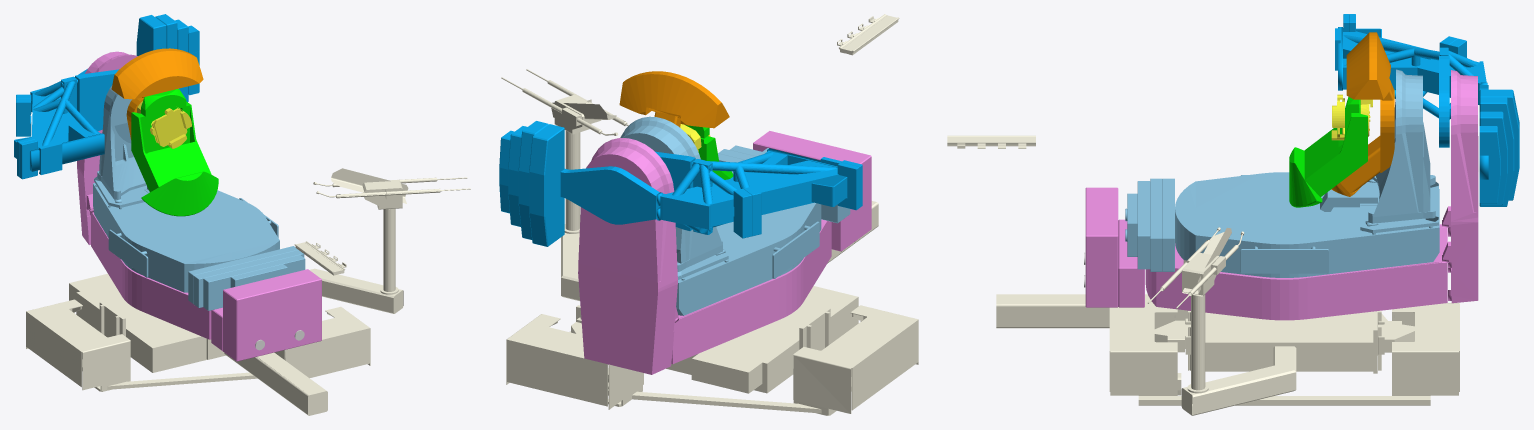
Rendered from diffabs.dae.
The picture shows the model from 3 angles, left to right: view 1: azimuth 30°, elevation 25°; view 2: azimuth 150°, elevation 25°; view 3: azimuth 270°, elevation 25°; orthographic projection. The views are drawn at different scales.
Parts seen in each view (by area): view 1: base, mu, gamma, delta, kappa, komega, kphi; view 2: base, gamma, delta, mu, komega, kappa; view 3: base, mu, gamma, delta, kappa, komega, kphi.
Part boxes in pixels (box(x1,y1,x2,y2)): base: box(26, 168, 470, 415); mu: box(93, 85, 305, 310); gamma: box(77, 51, 321, 361); delta: box(14, 14, 199, 179); kappa: box(131, 89, 218, 216); komega: box(111, 48, 203, 139); kphi: box(136, 101, 191, 148); base: box(501, 14, 918, 415); gamma: box(578, 131, 871, 374); delta: box(499, 121, 862, 246); mu: box(620, 116, 850, 315); komega: box(619, 71, 729, 128); kappa: box(685, 125, 733, 179); base: box(947, 135, 1459, 415); mu: box(1125, 69, 1439, 277); gamma: box(1085, 70, 1478, 320); delta: box(1335, 14, 1519, 206); kappa: box(1289, 96, 1367, 207); komega: box(1331, 32, 1394, 196); kphi: box(1331, 94, 1372, 140).
Bounding box in the file's own units: 2.83 × 3.23 × 1.91.
